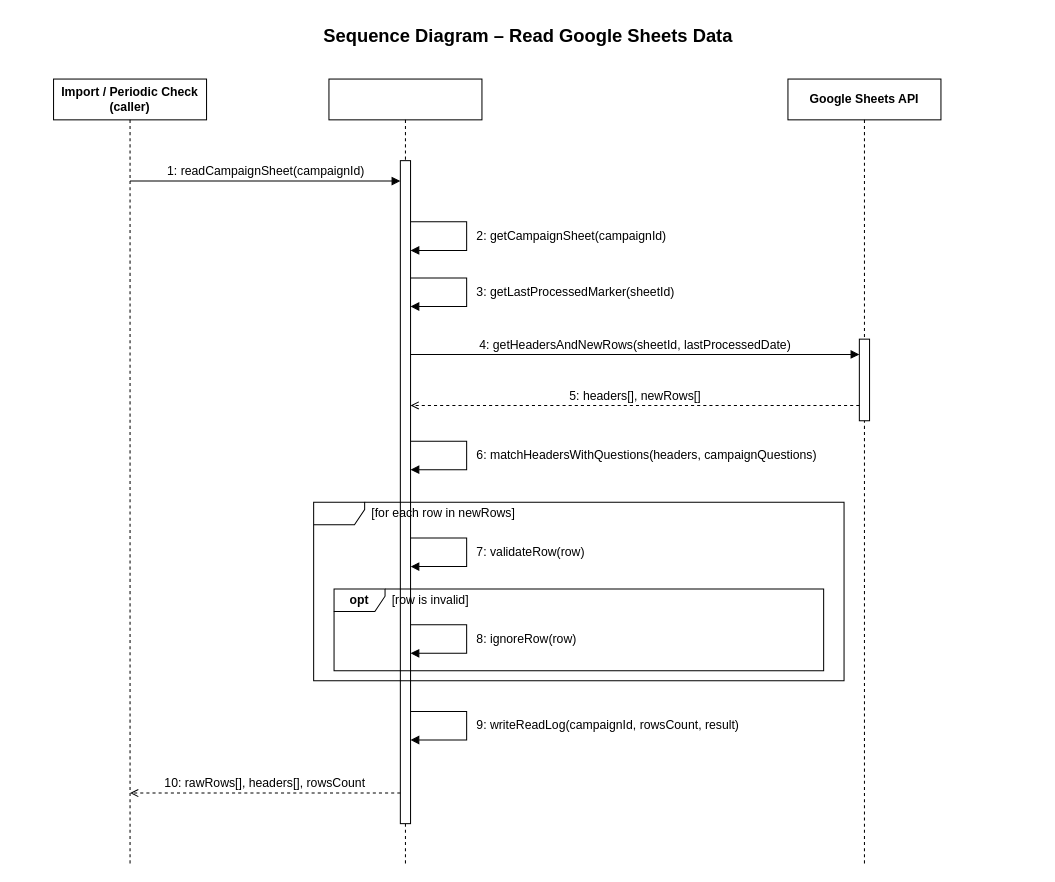
The diagram is 1055 pixels wide and 882 high, and some of its shapes have lost their labels. The shapes that lost their labels are listed below. From the top down, each one's box as (x1, y1, x2, y2) in pixels, then its label:
(328, 78, 482, 864): Campaign System
(313, 501, 844, 681): loop
